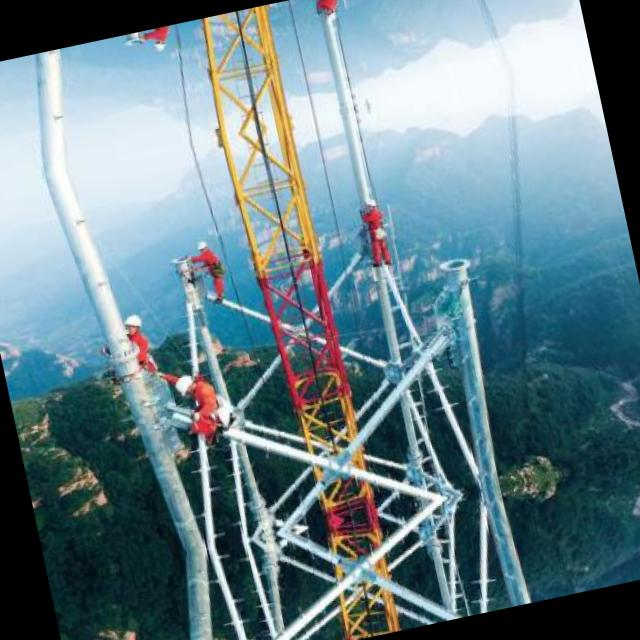helmet: (170, 368, 202, 398), (120, 310, 144, 337), (194, 236, 212, 258), (150, 32, 168, 54), (320, 5, 338, 24), (361, 195, 378, 212)
